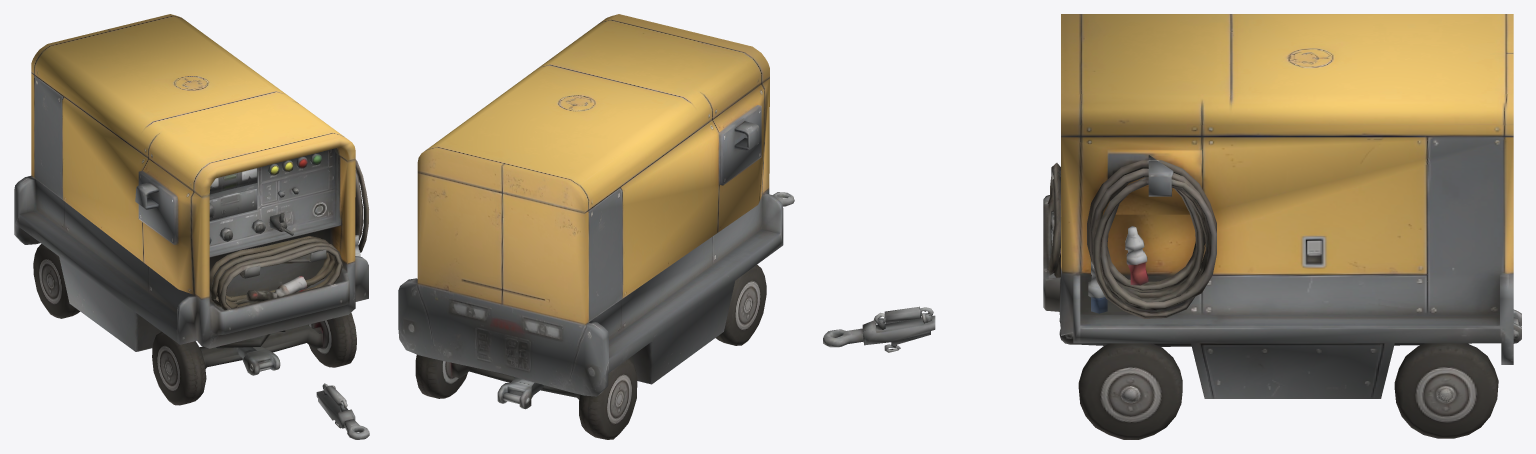
Rendered from energia_solo.glb.
The picture shows the model from 3 angles, left to right: view 1: azimuth 30°, elevation 25°; view 2: azimuth 150°, elevation 25°; view 3: azimuth 270°, elevation 25°; orthographic projection. The views are drawn at different scales.
Visible parts, largest first — view 1: Unidade de energia de solo; view 2: Unidade de energia de solo; view 3: Unidade de energia de solo.
Boxes of the visible parts, <box> form: Unidade de energia de solo: <box>14,14,369,439</box>; Unidade de energia de solo: <box>398,14,794,439</box>; Unidade de energia de solo: <box>823,14,1521,439</box>.
Bounding box in the file's own units: 0.4551 × 0.5215 × 0.998.
1 material, 1 textured.
